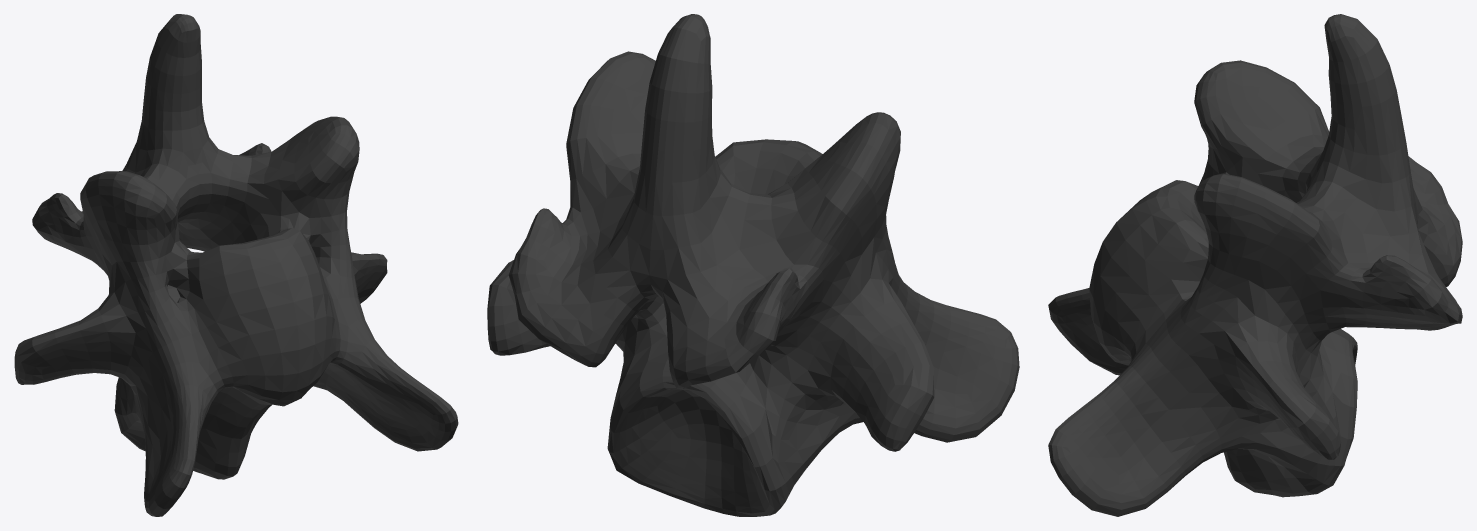
The picture shows the model from 3 angles, left to right: view 1: azimuth 30°, elevation 25°; view 2: azimuth 150°, elevation 25°; view 3: azimuth 270°, elevation 25°; orthographic projection. The views are drawn at different scales.
Visible parts, largest first — view 1: b_C5_LO; view 2: b_C5_LO; view 3: b_C5_LO.
Boxes of the visible parts, left/top/right/bottom form: b_C5_LO: left=14, top=14, right=458, bottom=516; b_C5_LO: left=487, top=14, right=1019, bottom=516; b_C5_LO: left=1048, top=14, right=1462, bottom=516.
Size of the model in its own units: 0.00108 by 0.00122 by 0.000962.
Materials: 1 (1 with a texture image).
